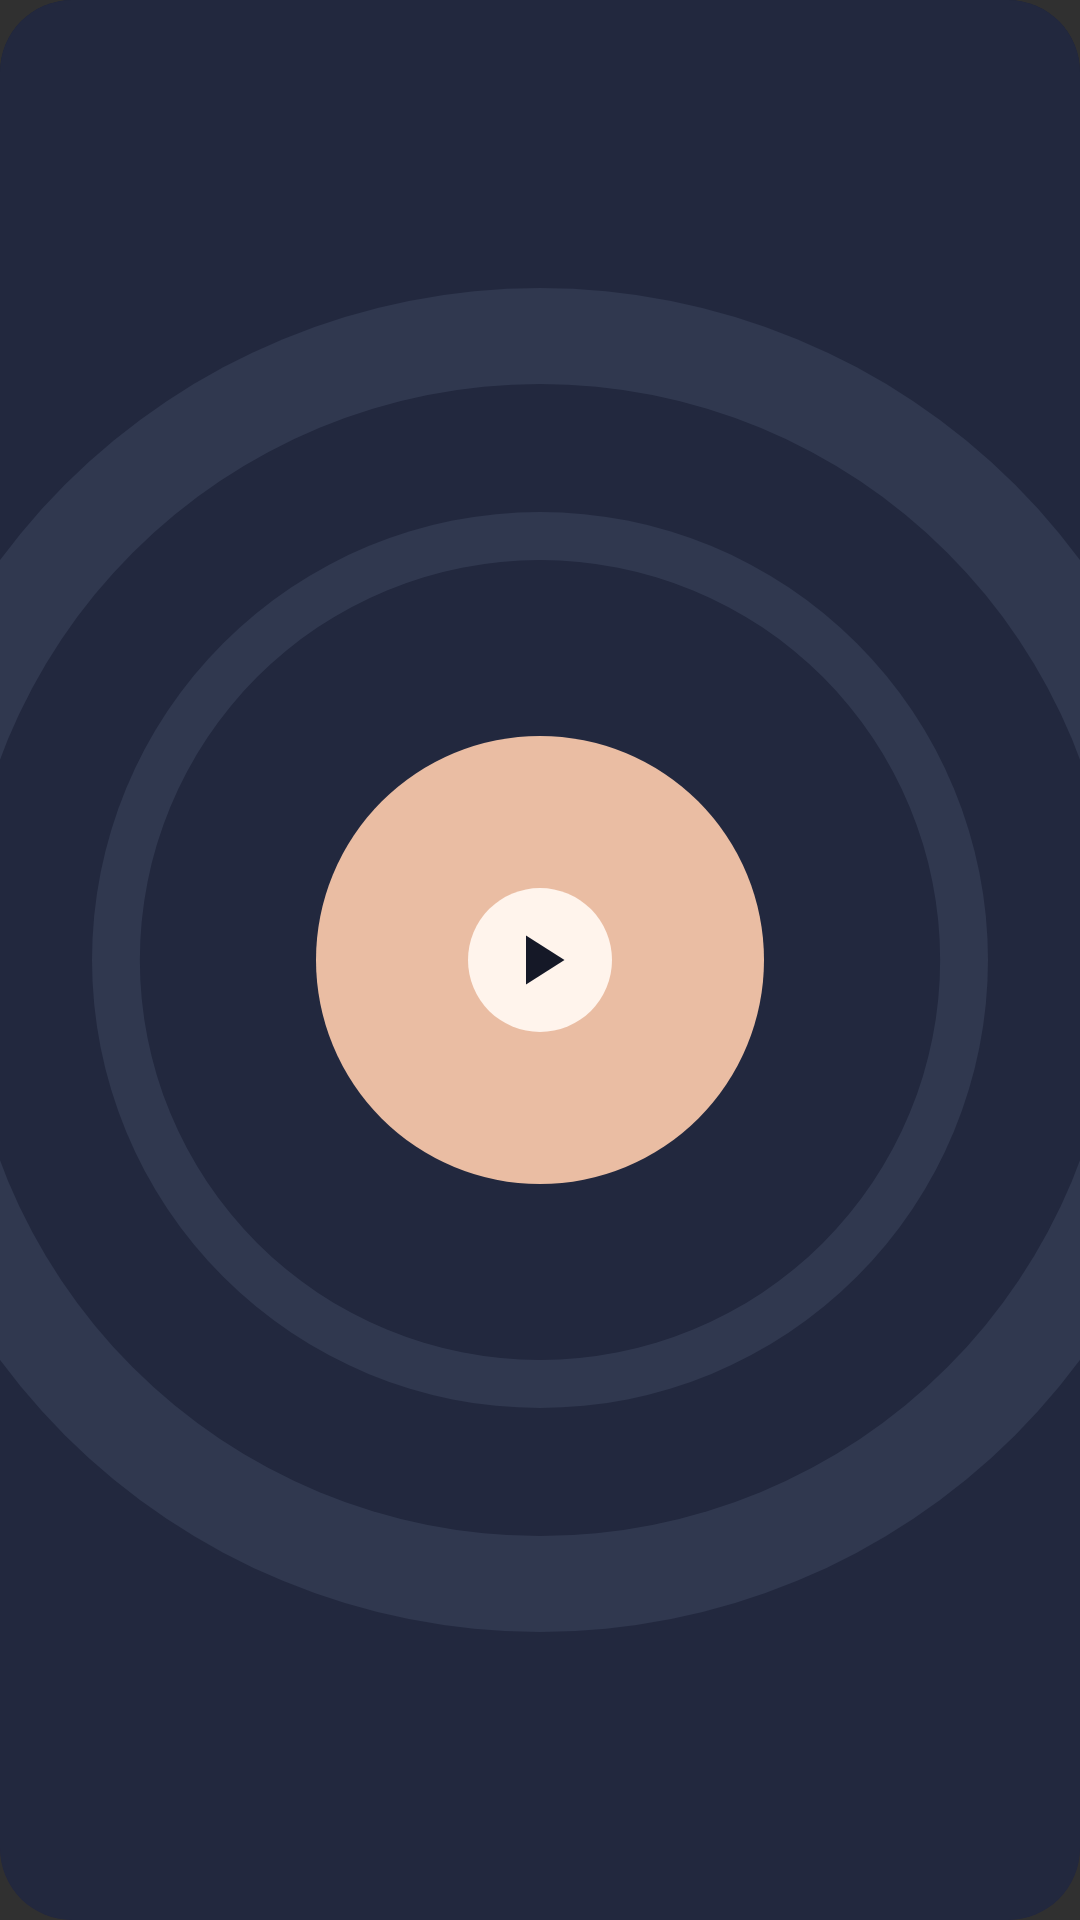

Where icons sit on this 1080 × 1920 app screen, as (x1, y1, x2, y2):
播放: (468, 888, 612, 1032)
